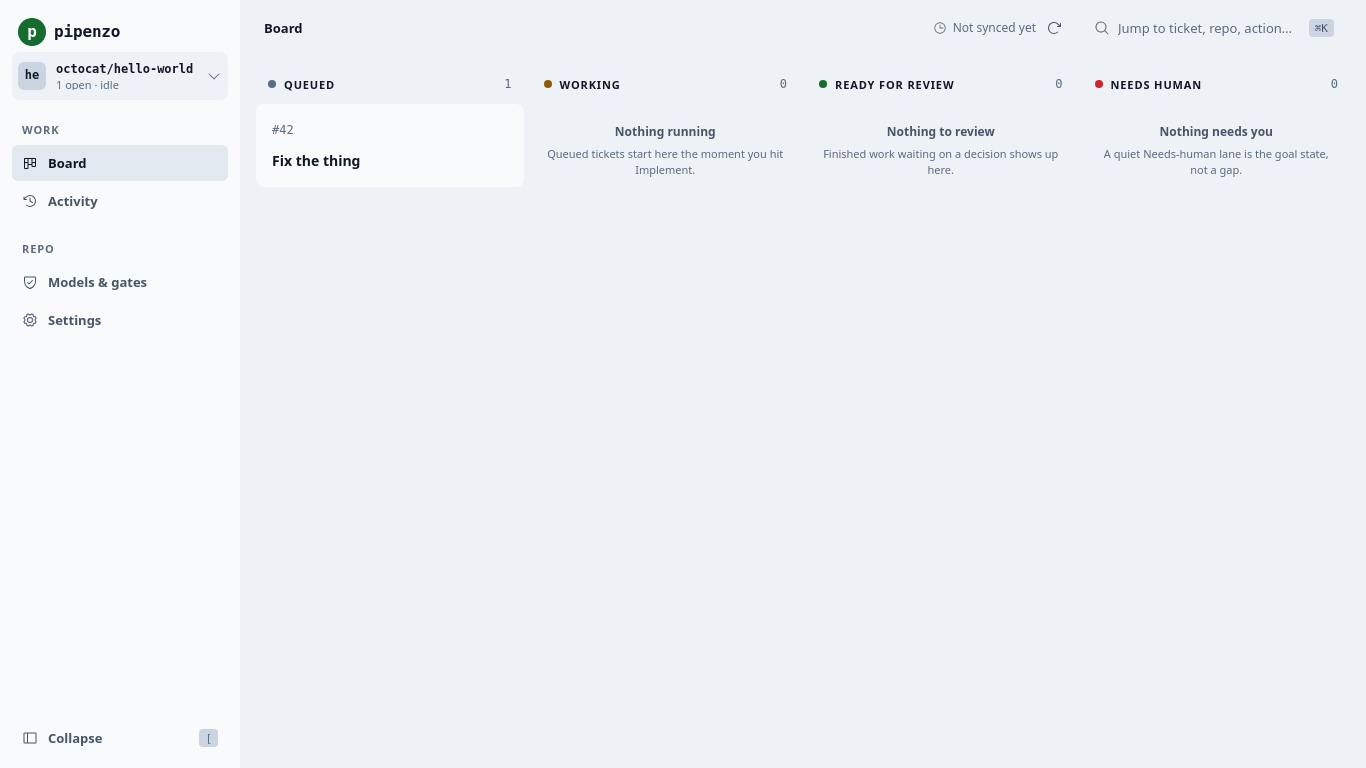
Test: AppRoot pre-app gate (issue #113) › starts Implement from a Queued card and confirms it with a toast naming the branch
The image size is (1366, 768).
Click the button "#42 Fix the thing": {"x": 316, "y": 160} 256,104 -> 524,187
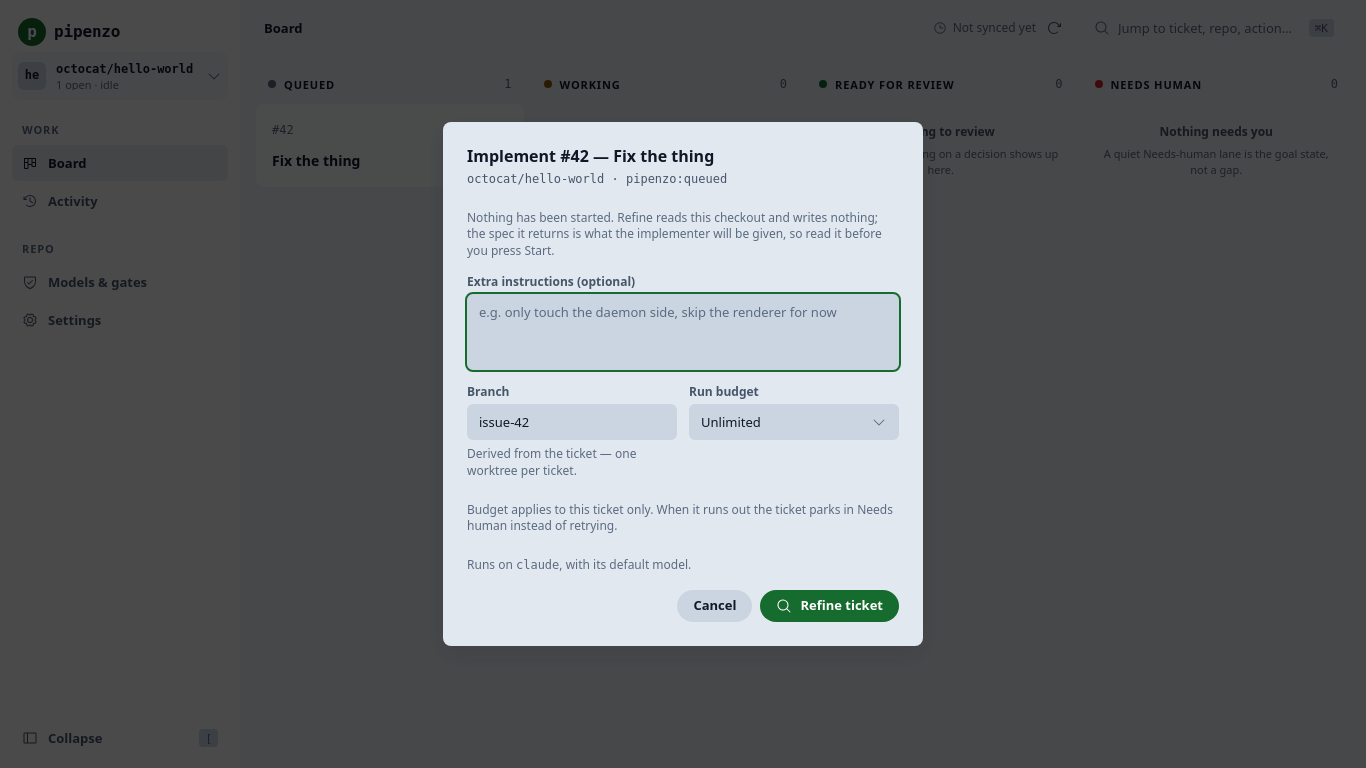
Click the button "Refine ticket": {"x": 830, "y": 606} 760,590 -> 899,622
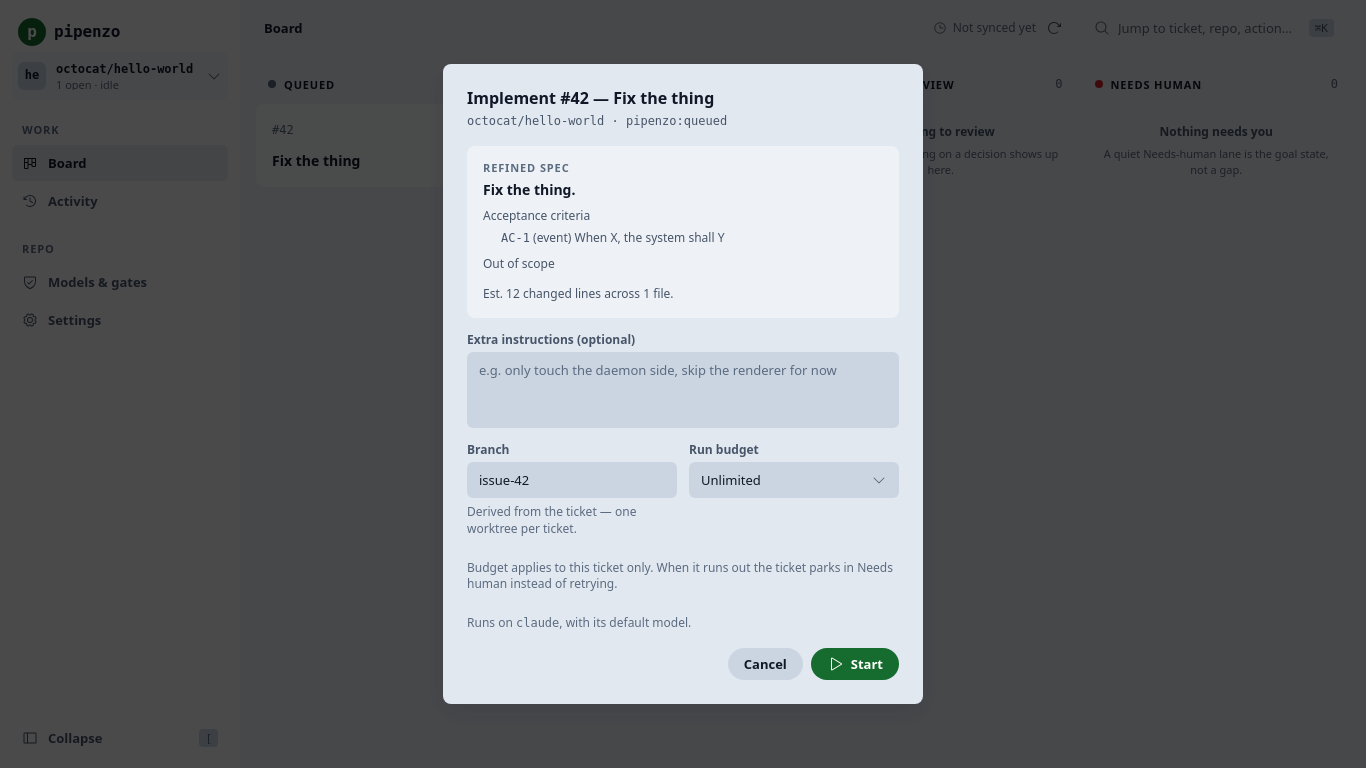
Click the button "Start": {"x": 855, "y": 664} 811,648 -> 899,680
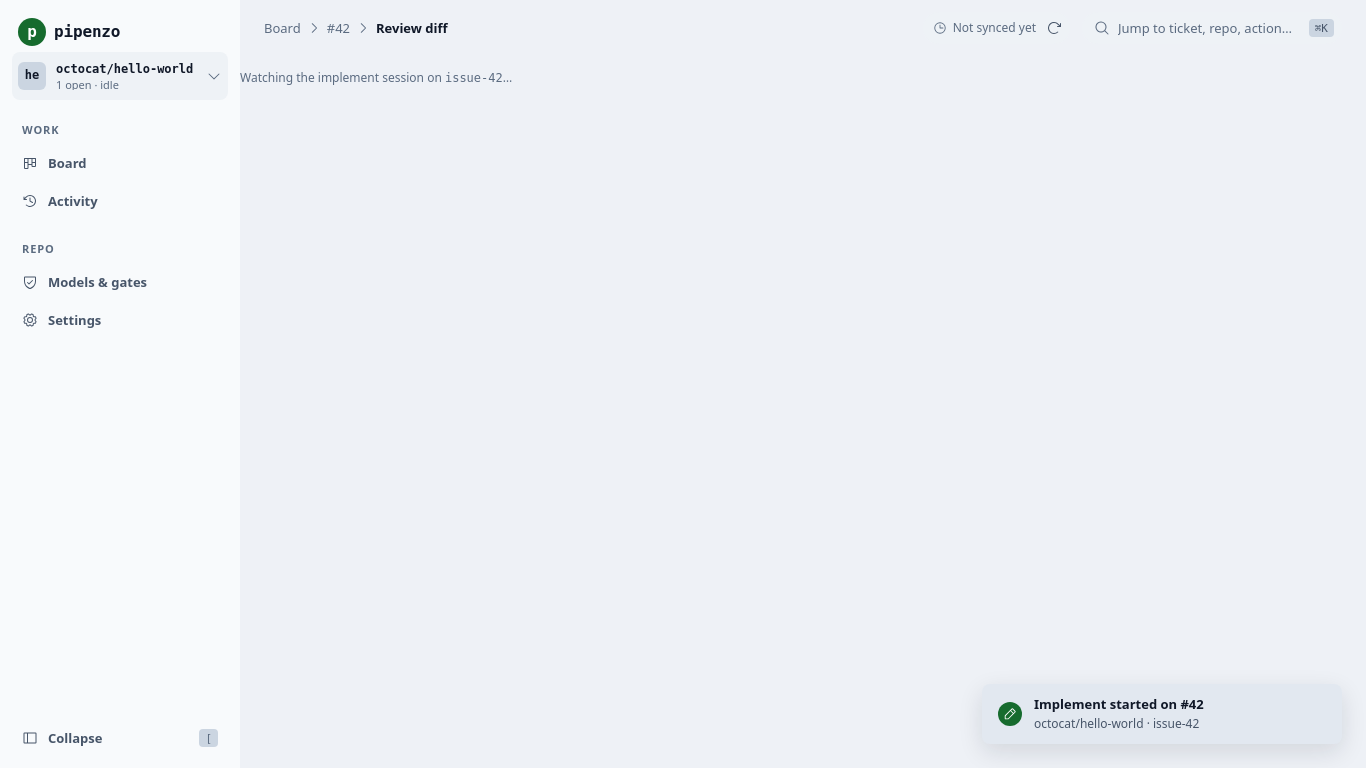
Expected: the text "Implement started on #42" is shown, 1034,695 -> 1204,713
Expected: the text "octocat/hello-world · issue-42" is shown, 1034,715 -> 1199,732
Expected: the dialog is gone
